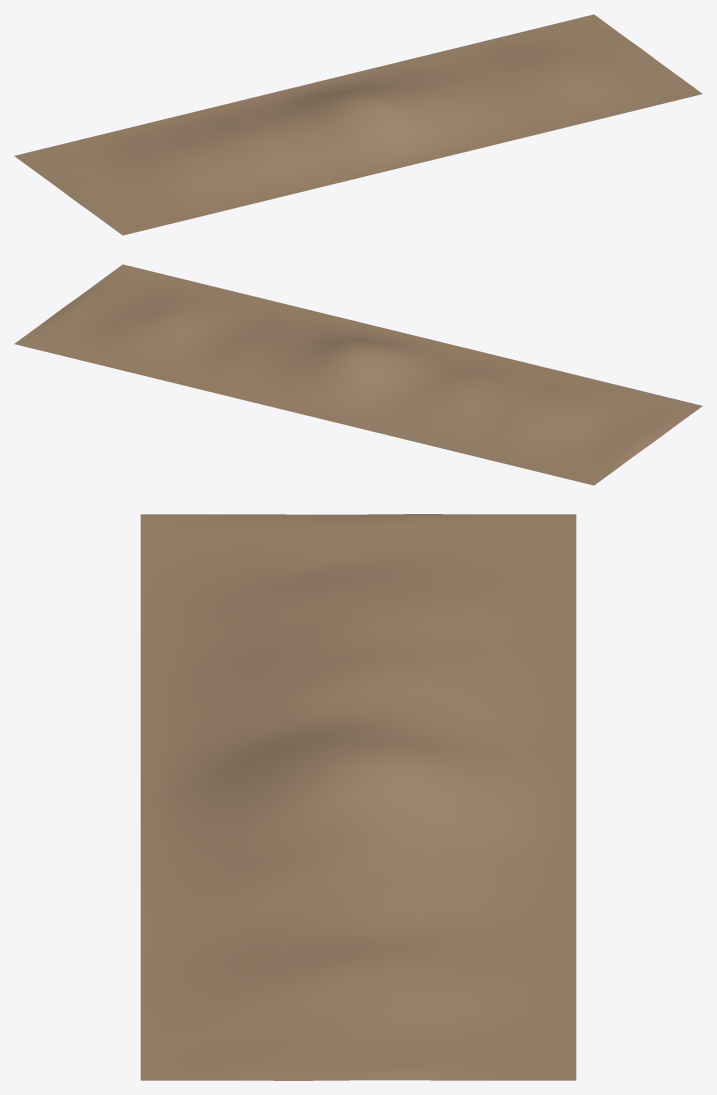
Rendered from SM_ED_Ridge_1.fbx.
The picture shows the model from 3 angles, top to bottom: view 1: azimuth 30°, elevation 25°; view 2: azimuth 150°, elevation 25°; view 3: azimuth 270°, elevation 25°; orthographic projection. The views are drawn at different scales.
Parts seen in each view (by area): view 1: Ridge.001; view 2: Ridge.001; view 3: Ridge.001.
Part boxes in pixels (box(x1,y1,x2,y2)): Ridge.001: box(14, 14, 702, 235); Ridge.001: box(14, 264, 702, 485); Ridge.001: box(140, 514, 576, 1080).
Bounding box in the file's own units: 40000 × 13000 × 1428.
